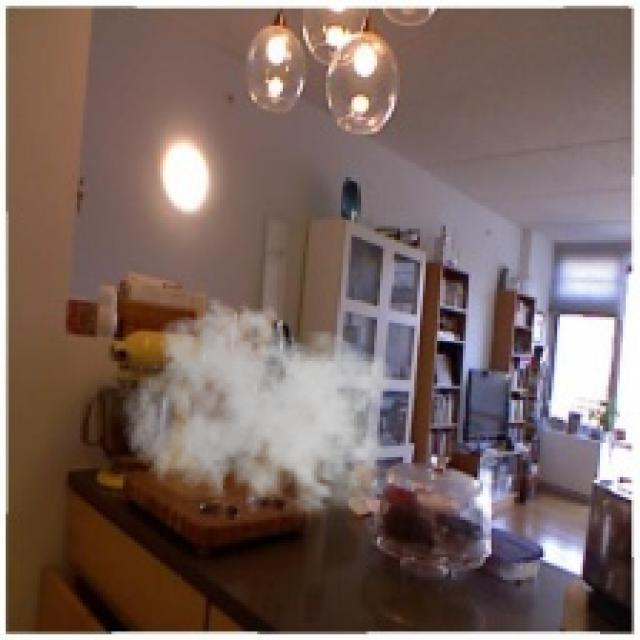Smoke: (123, 297, 400, 529)
